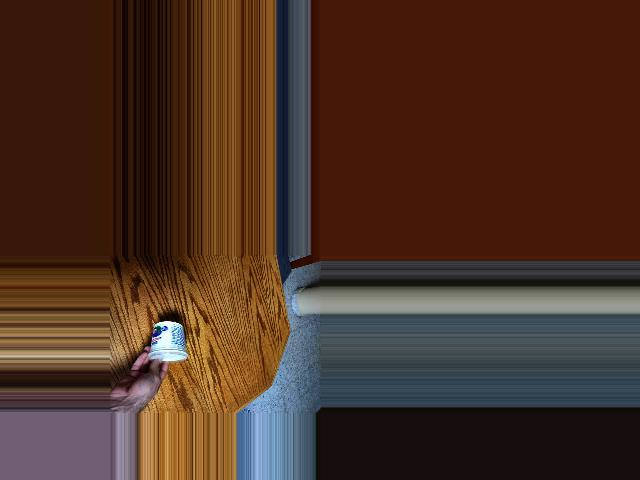cotage: (144, 323, 194, 370)
